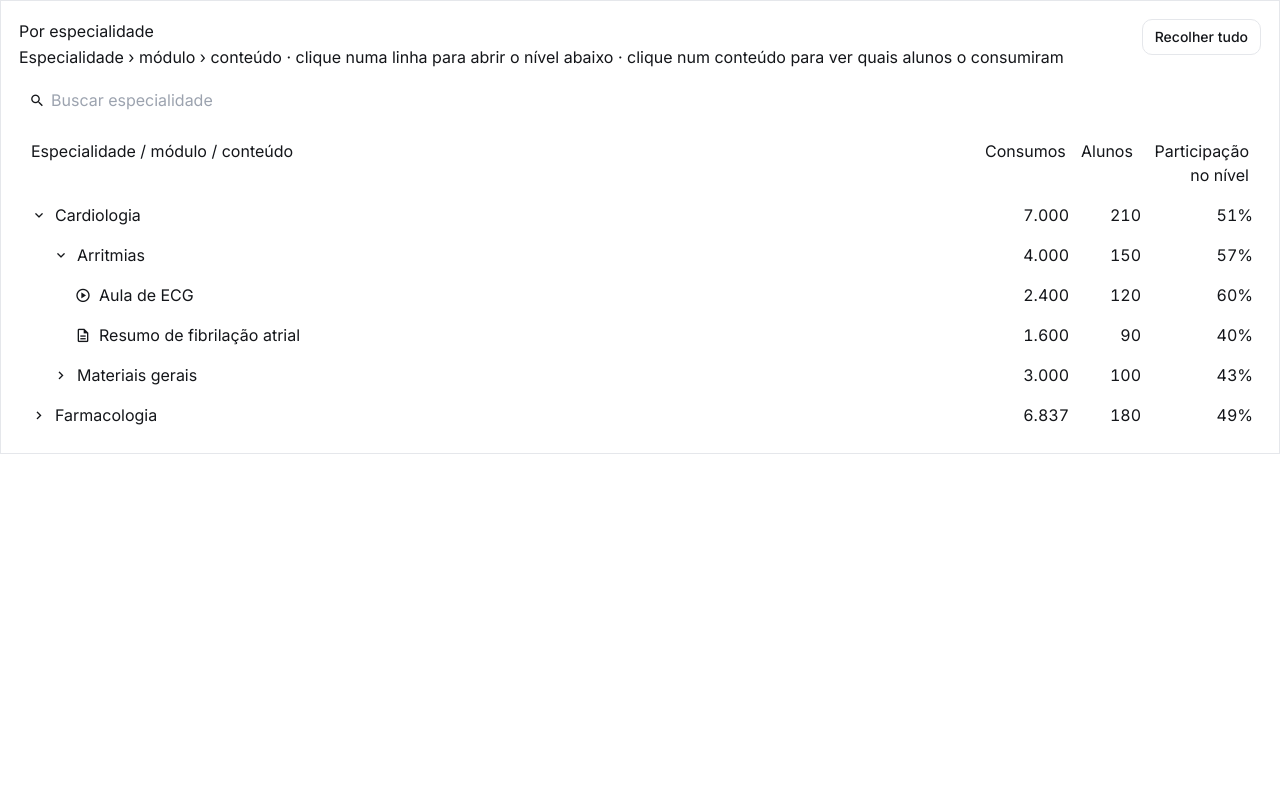
Test: AlunosDoConteudoDialog (§12.4) › fechar devolve o foco ao botão do conteúdo
The width and height of the screenshot is (1280, 800).
Click the button with aria-label "Ver alunos que consumiram Aula de ECG": [146, 295] box [99, 283, 194, 307]
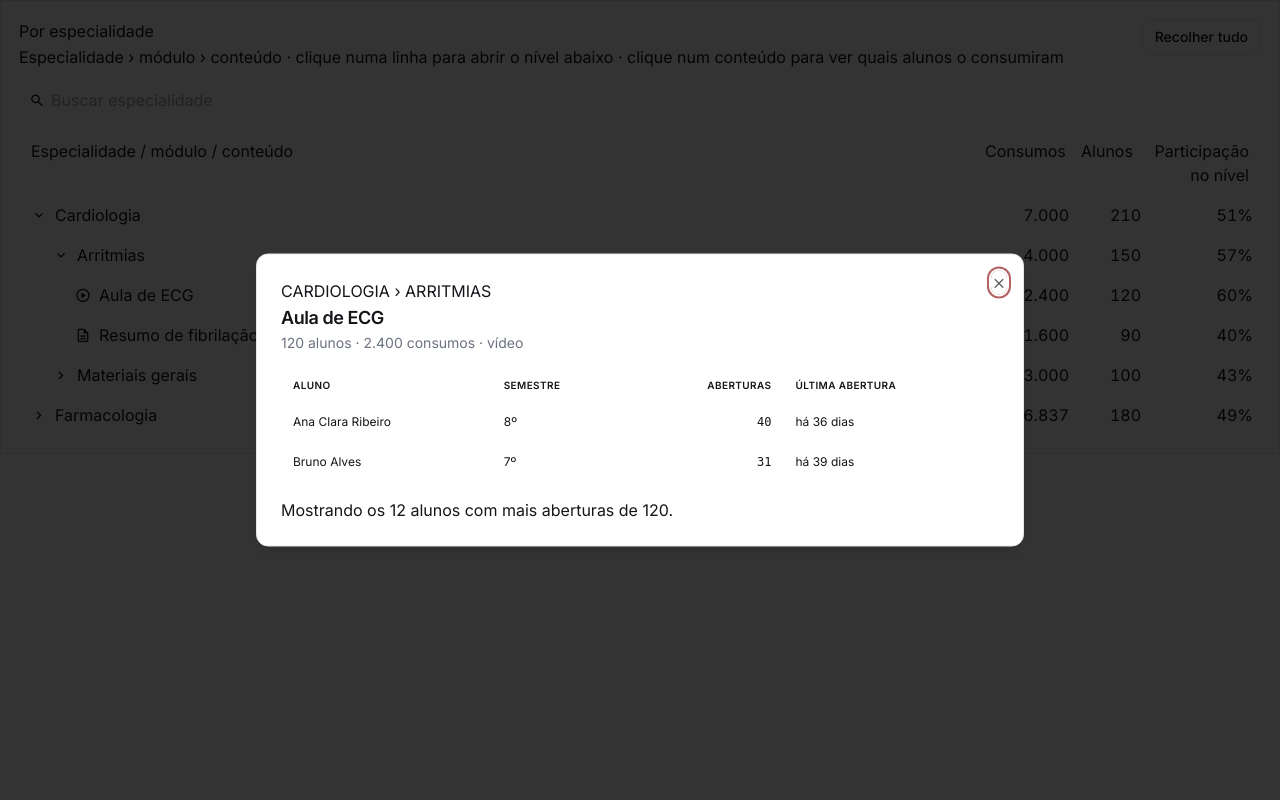
Click the button named "Fechar": [999, 282] box [991, 270, 1007, 294]
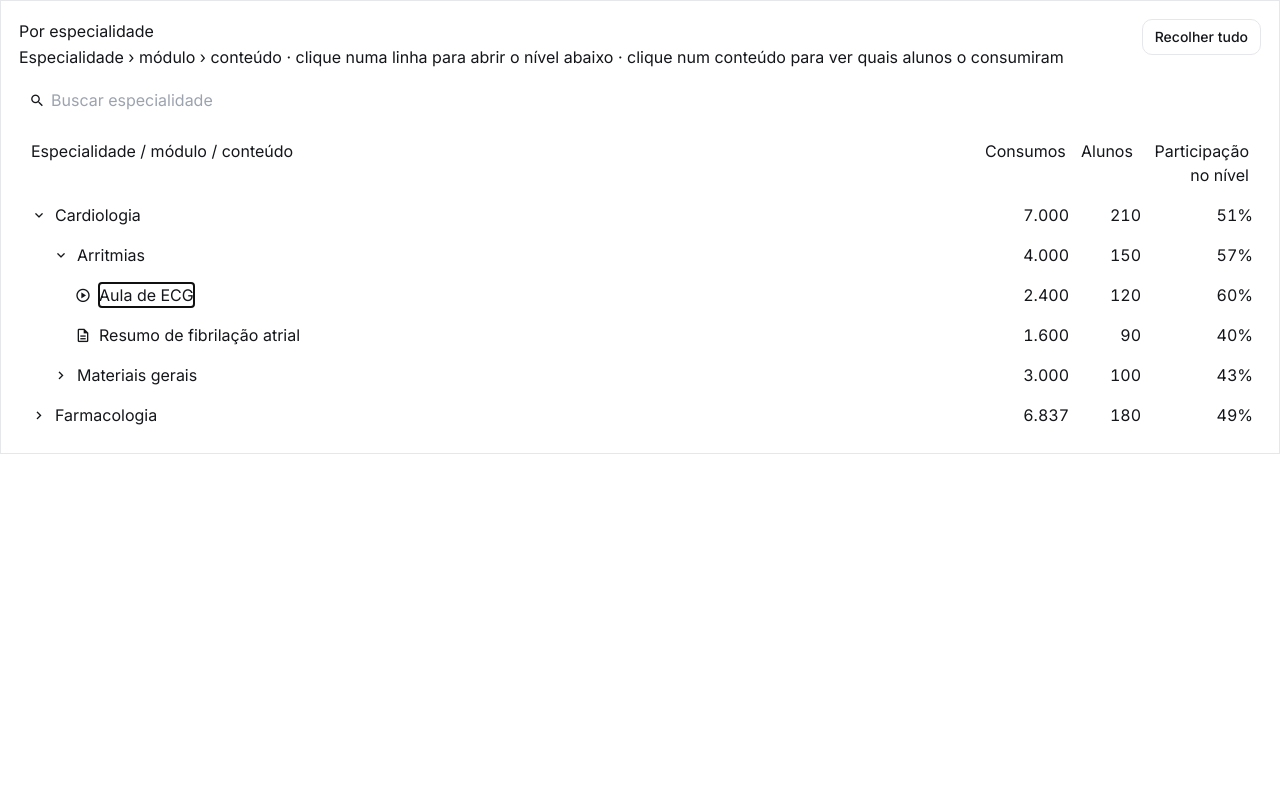
Expected: the dialog is gone
